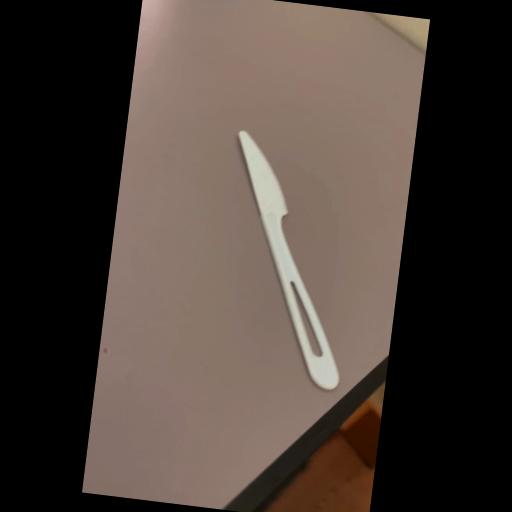utensil: (201, 124, 372, 398)
